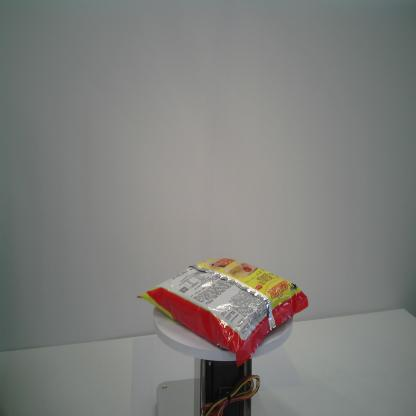Instant Noodles: (135, 256, 309, 368)
